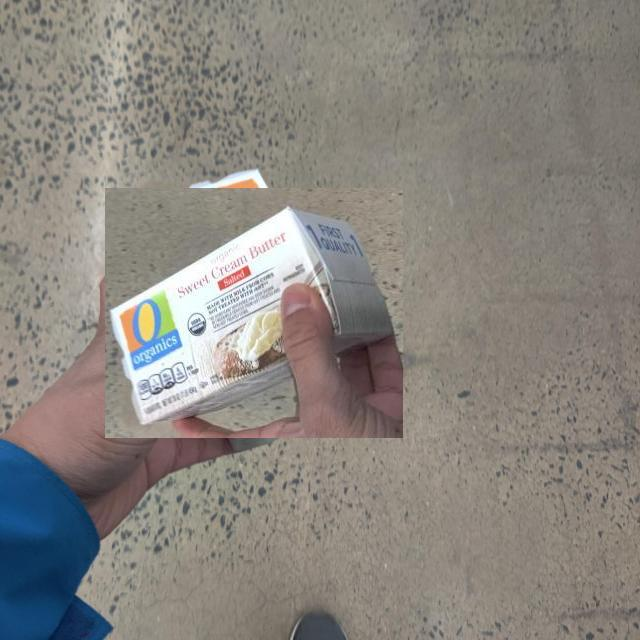Butter: (106, 187, 403, 438)
